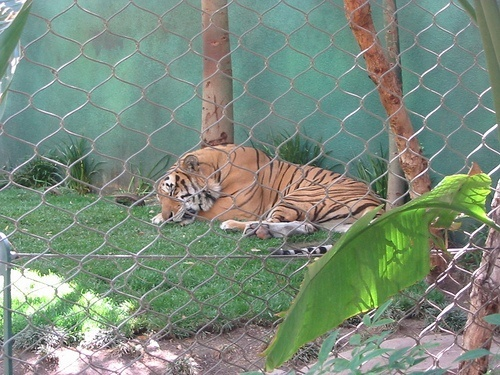tigre: (151, 144, 389, 254)
